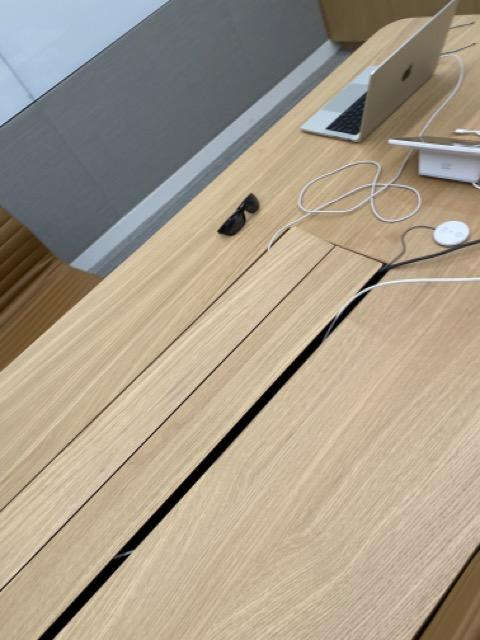Sunglasses: (216, 190, 262, 240)
